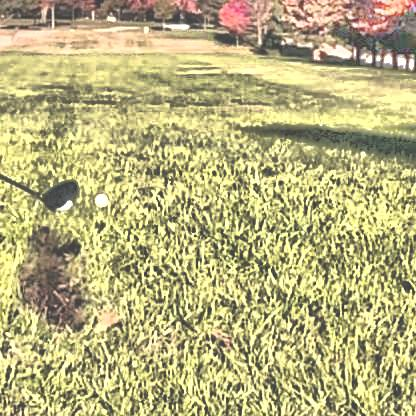golfball: (91, 189, 106, 204)
